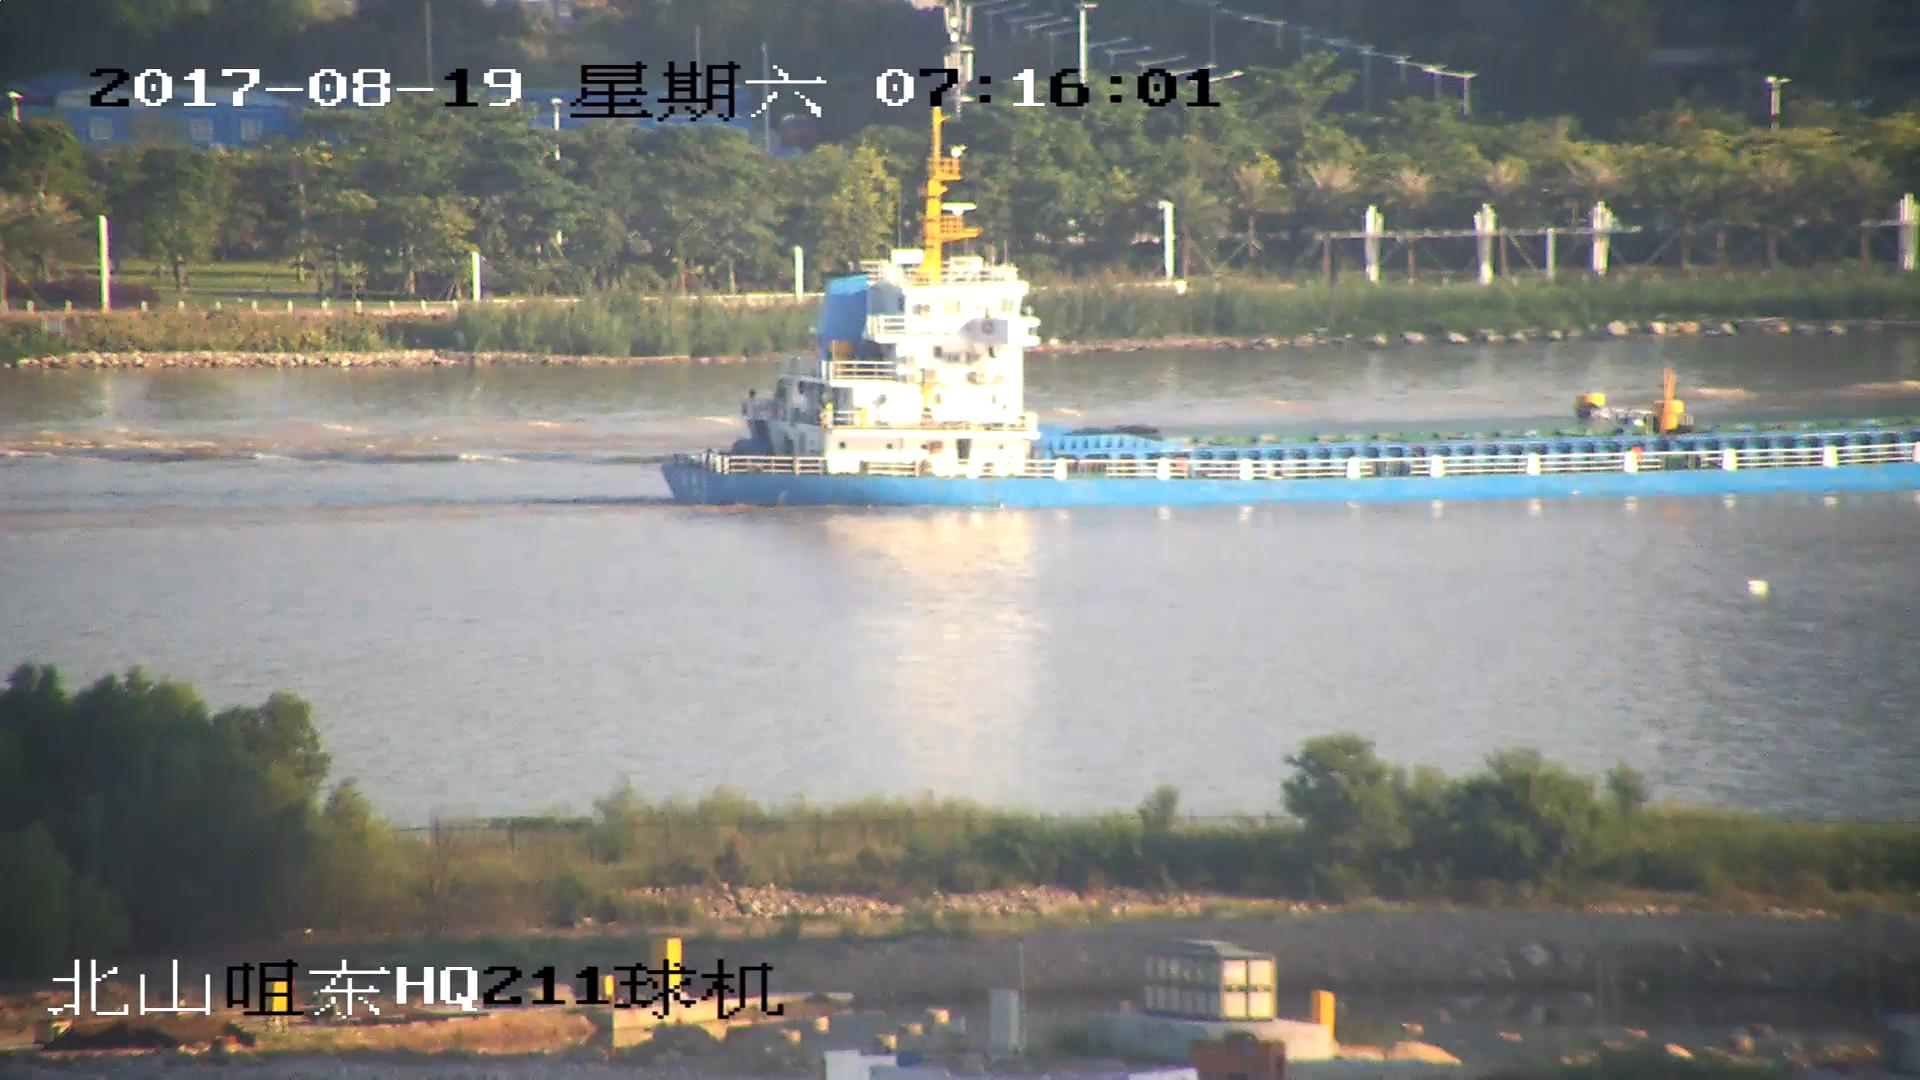general cargo ship: (658, 121, 1919, 503)
